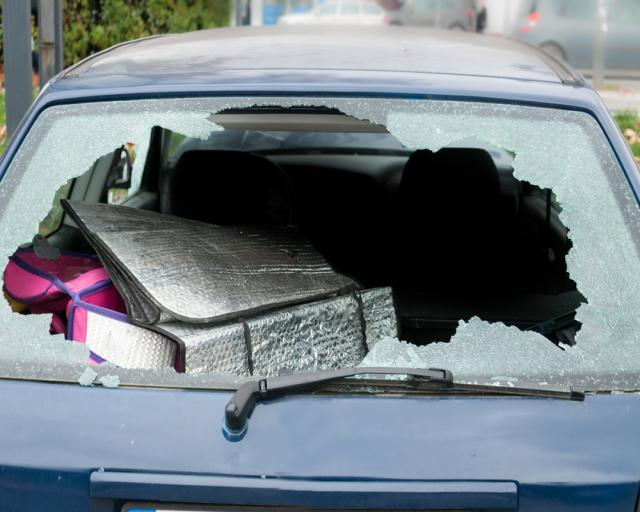glass shatter: (0, 95, 640, 394)
